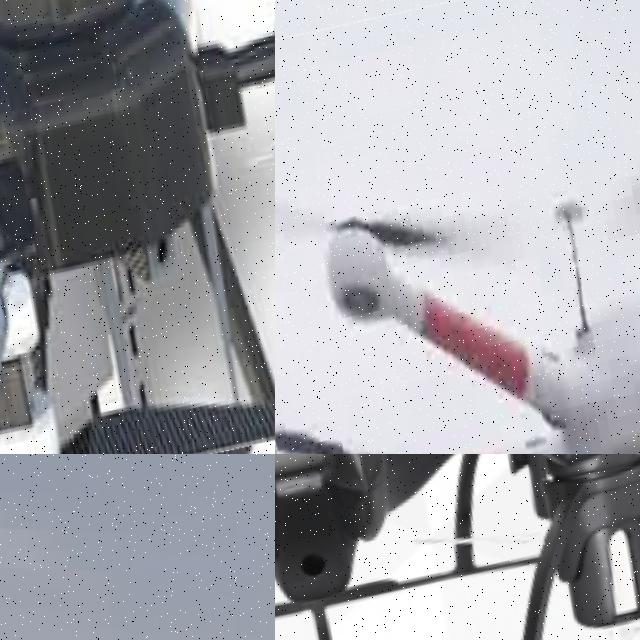drone: (275, 0, 640, 454), (0, 0, 275, 454), (275, 454, 640, 640)
